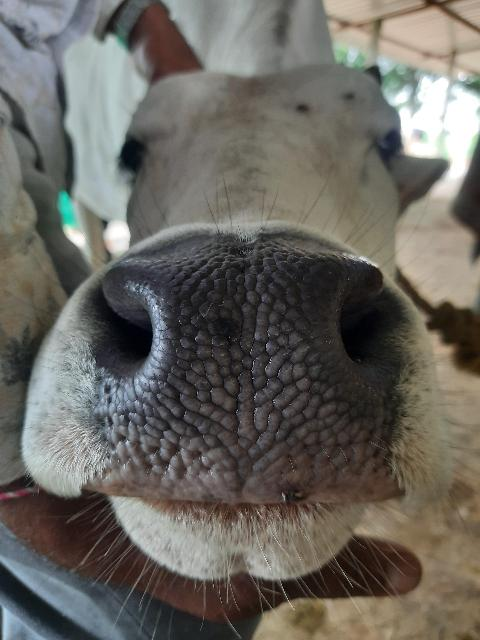Muzzle: (96, 256, 401, 498)
